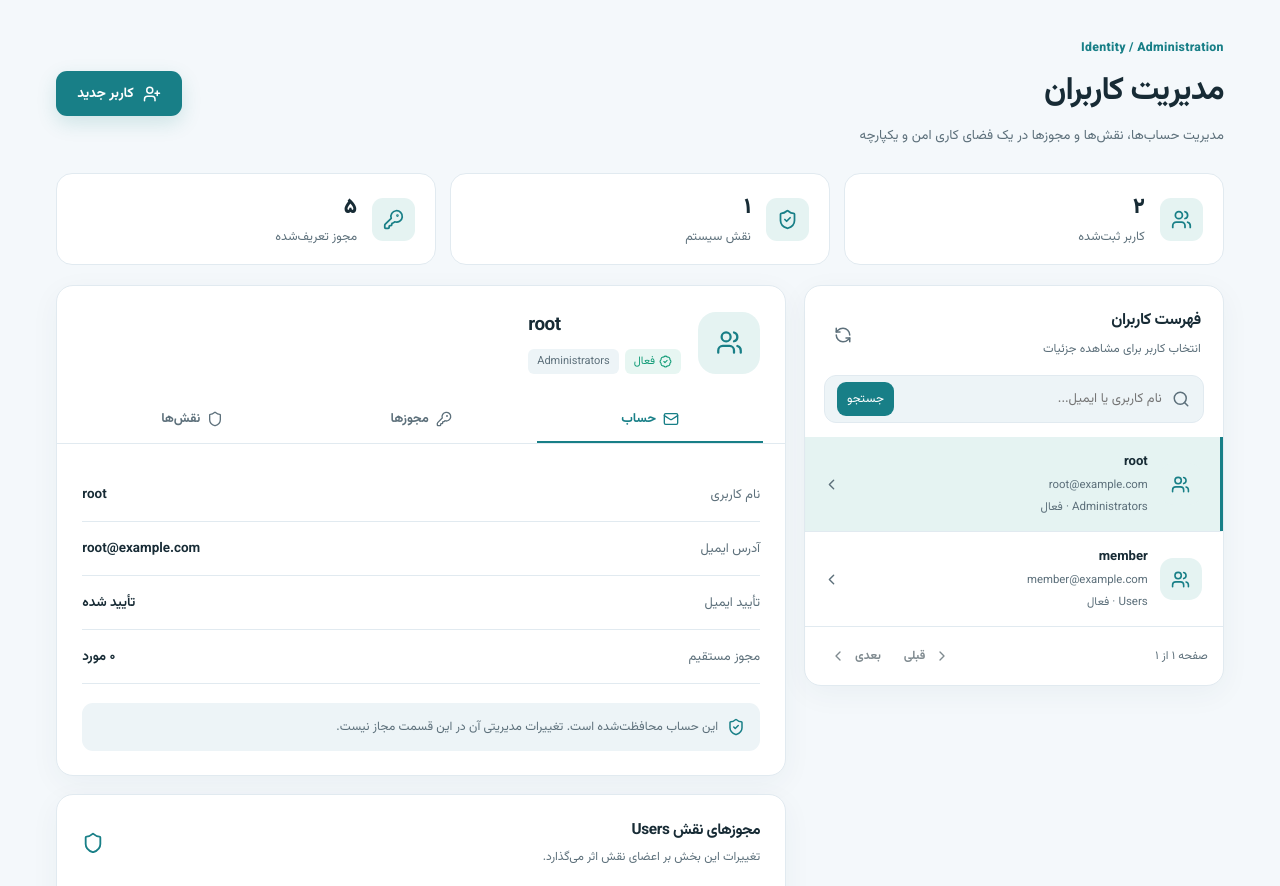
Test: Users administration workspace › protects administrator accounts in the interface and shows member actions
Expected: the text "root" below "انتخاب کاربر برای مشاهده جزئیات" is shown, [1124,452,1148,472]
Expected: the text "این حساب محافظت‌شده است" is shown, [336,717,718,737]
Click the button "member member@example.com Users · فعال" at x=1181, y=579, box [805,531,1223,626]
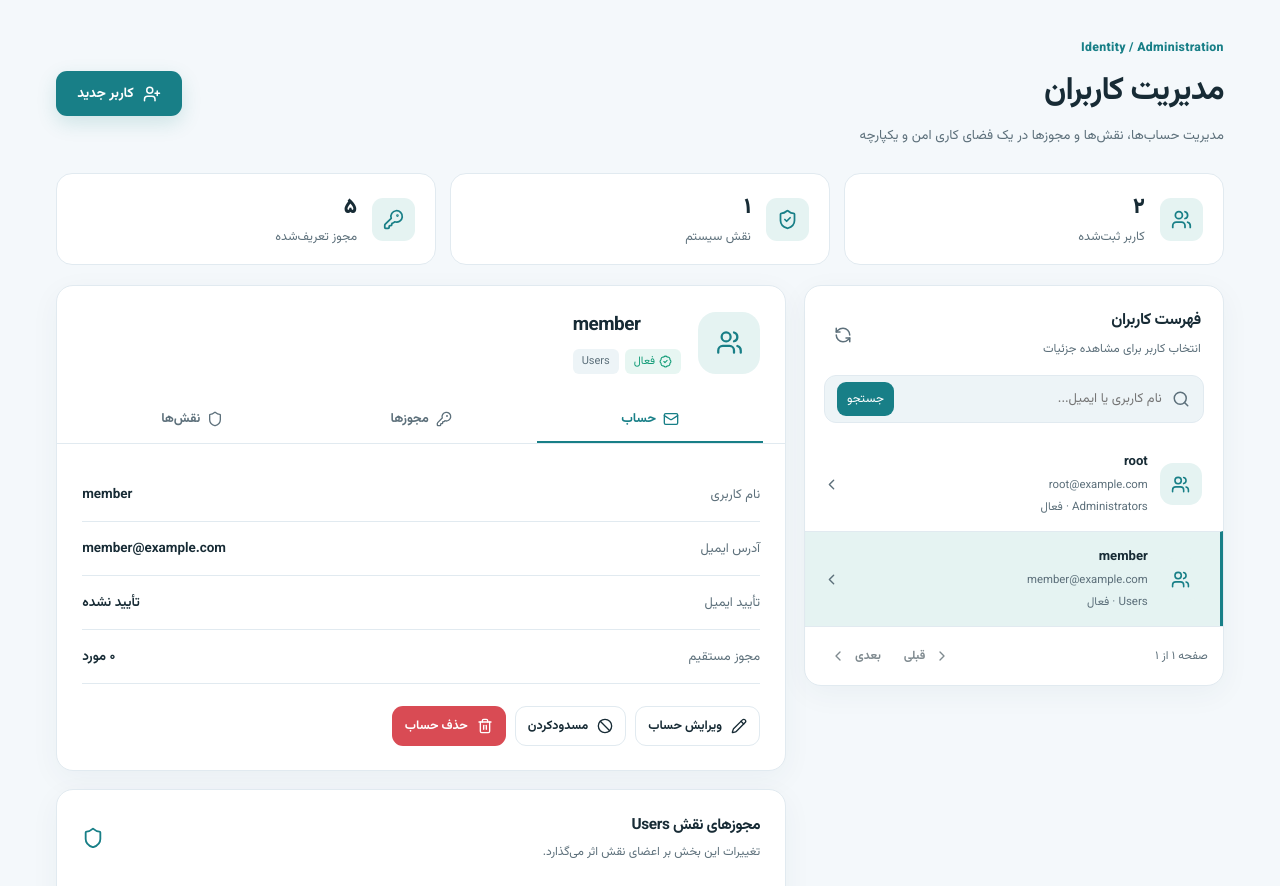
Now the button "ویرایش حساب" is shown, box [635,706,760,746]
Now the button "حذف حساب" is shown, box [392,706,506,746]
